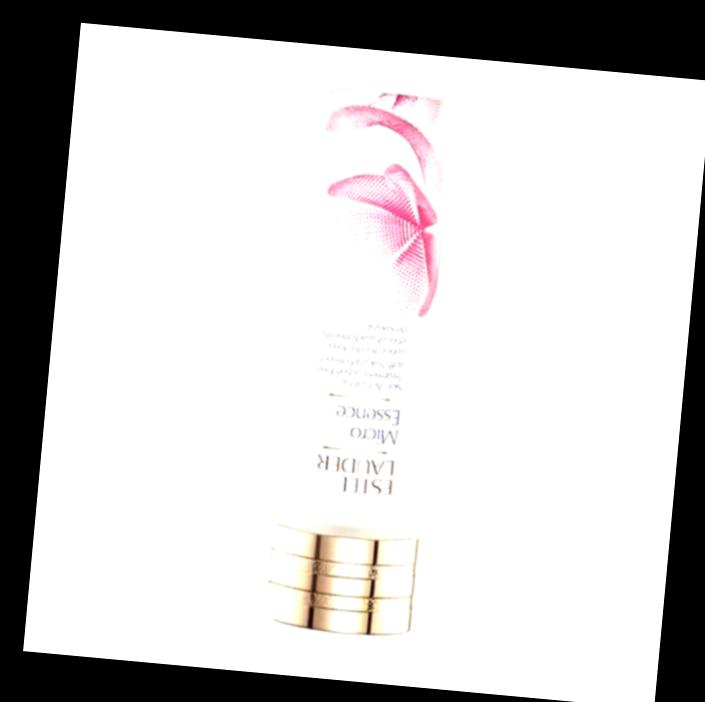cosmetic: (266, 85, 452, 633)
